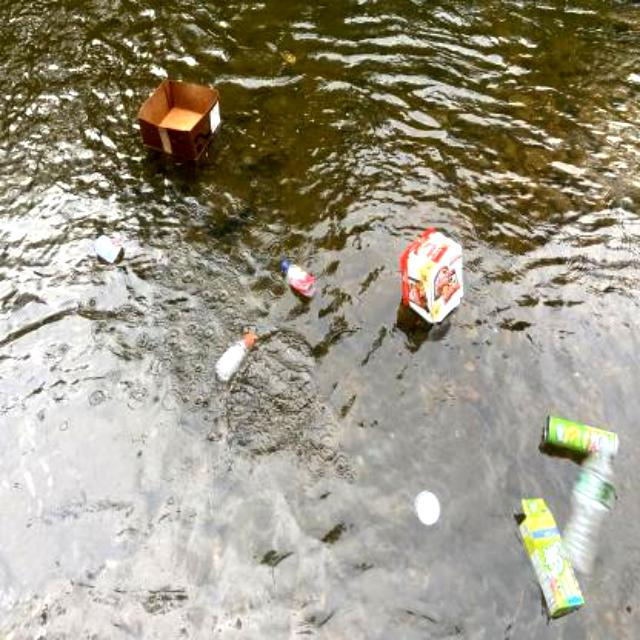Cardboard: (515, 492, 587, 620), (136, 74, 228, 166), (396, 225, 466, 329)
Metal: (540, 413, 620, 463), (90, 233, 126, 269)
Paper: (411, 487, 441, 527)
Plastic: (555, 437, 621, 578), (209, 328, 259, 388), (278, 255, 318, 302)
